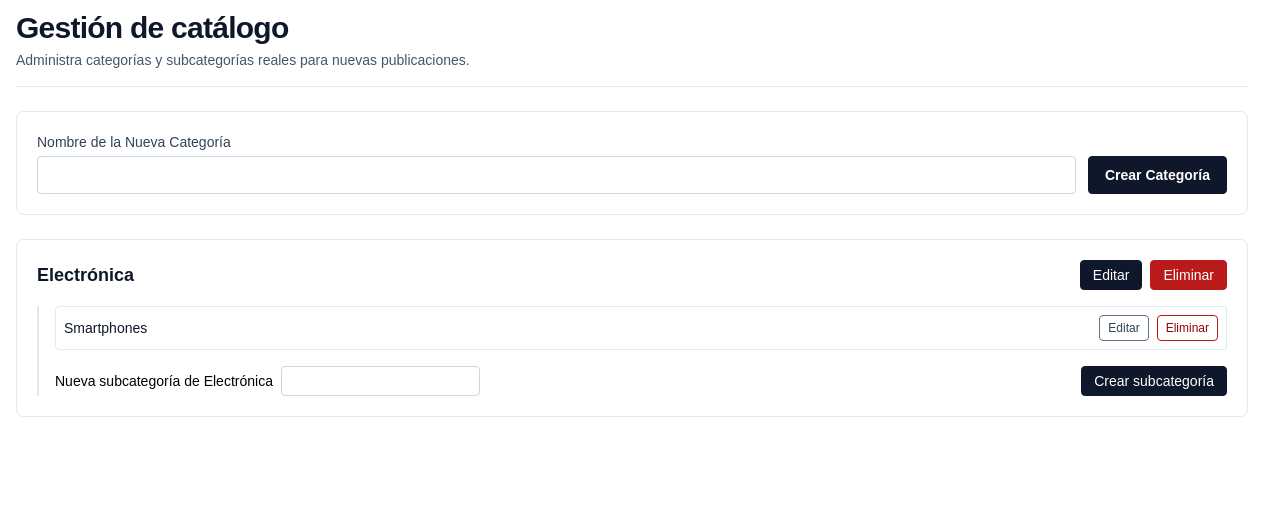
Test: PHA02TSK14 - Parte A: PanelCategorias › muestra mensaje de error 409 cuando se intenta eliminar una categoría con publicaciones asociadas
This screenshot has width=1265, height=508.
Click the button with aria-label "eliminar categoría Electrónica": (1189, 275) 1150,260 -> 1227,290
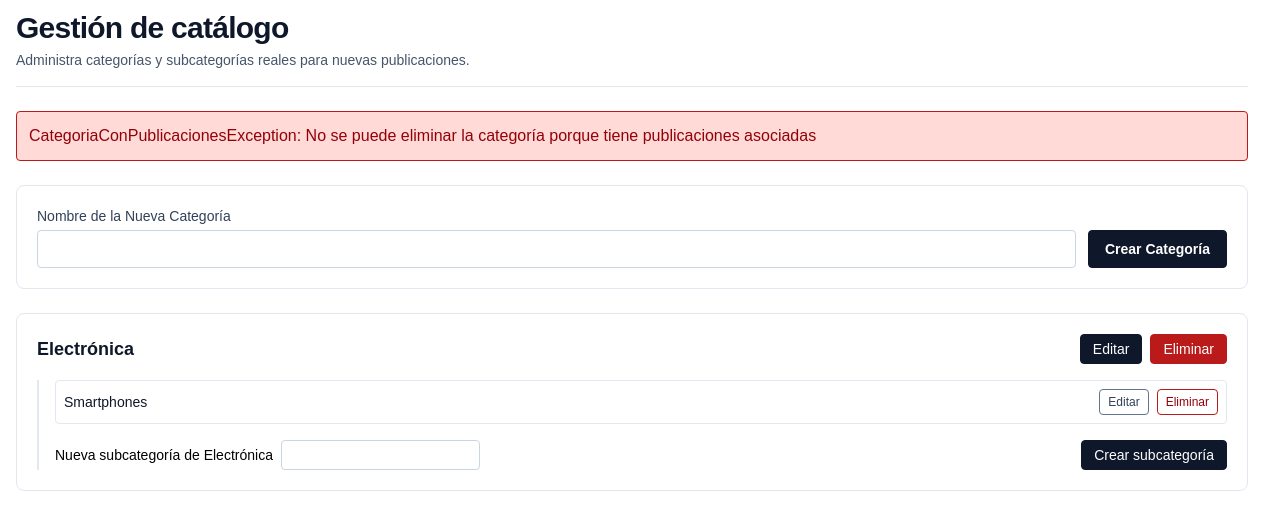
Now the text "No se puede eliminar la categoría porque tiene publicaciones asociadas" is shown, box 29,127 -> 816,144
